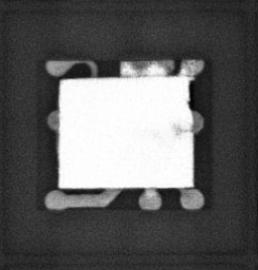DIE_BROKEN: (187, 78, 196, 114)
